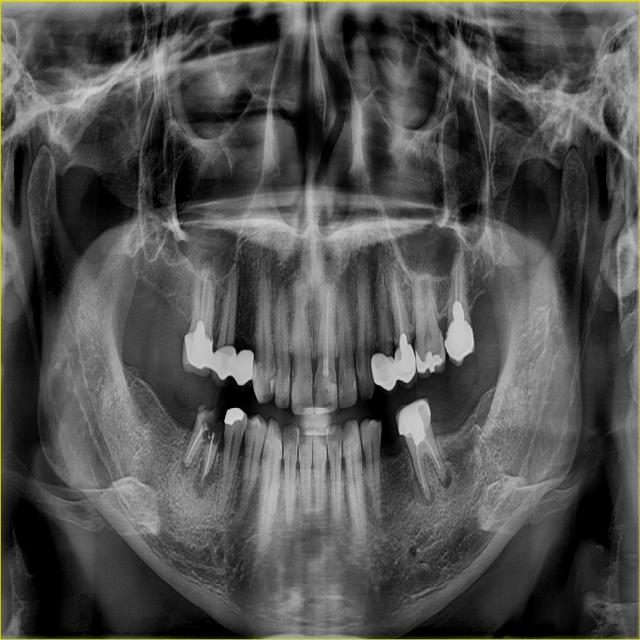Caries: (355, 366, 363, 394), (262, 441, 270, 466), (291, 364, 297, 390), (313, 381, 318, 410), (246, 419, 253, 435), (288, 367, 291, 387)
Crown: (396, 397, 431, 439), (182, 333, 213, 376), (210, 343, 235, 389), (231, 349, 257, 393), (371, 353, 398, 393), (394, 346, 418, 387)
Filling: (444, 301, 474, 361), (404, 413, 426, 446), (192, 320, 208, 364), (397, 332, 413, 374), (415, 349, 442, 373), (323, 375, 337, 411), (224, 407, 245, 426), (253, 361, 263, 400), (269, 374, 275, 397), (338, 383, 343, 404), (353, 378, 357, 394)
Missing teeth: (141, 291, 190, 351), (426, 386, 476, 441), (159, 369, 201, 430), (376, 411, 408, 460)
Periapical lesion: (192, 453, 218, 499), (409, 469, 436, 507), (435, 456, 452, 492), (178, 452, 196, 478), (201, 252, 213, 276)
Root Canal Treatment: (394, 273, 406, 334), (421, 435, 441, 470), (322, 294, 329, 376), (416, 445, 426, 492), (203, 285, 211, 330), (200, 272, 207, 321), (195, 277, 199, 322), (459, 260, 462, 305), (455, 263, 457, 300)
Root Piece: (182, 404, 214, 470), (199, 406, 224, 490)
